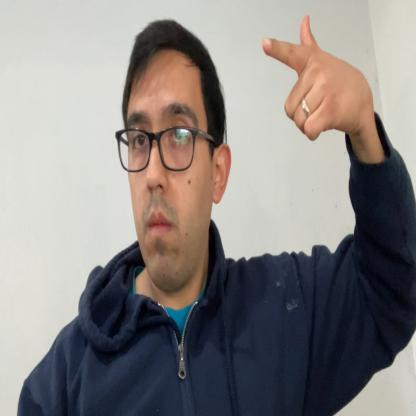G: (262, 14, 368, 141)
